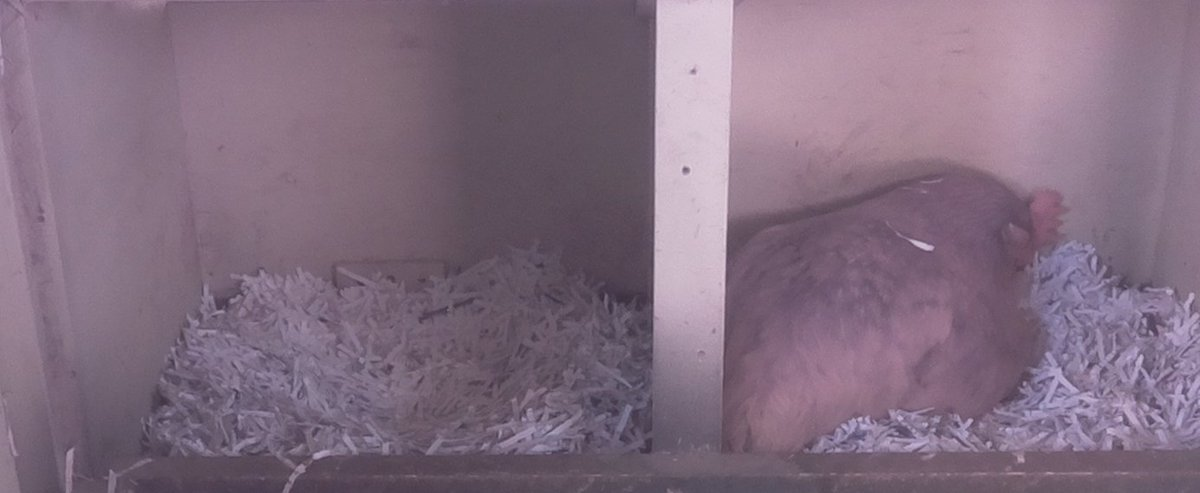hen: (730, 167, 1075, 454)
